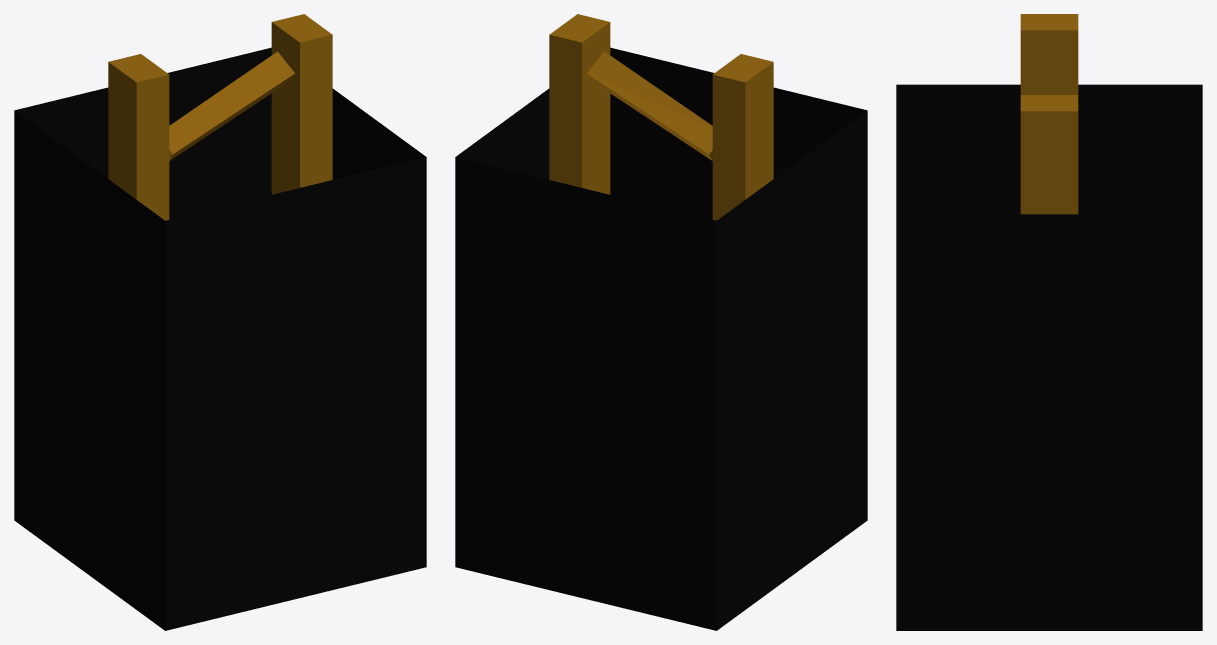
The model's file is obj_ladder_22_0.obj.
3 renders of one model, left to right at view 1: azimuth 30°, elevation 25°; view 2: azimuth 150°, elevation 25°; view 3: azimuth 270°, elevation 25°, orthographic.
Bounding box in the file's own units: 1 × 1.81 × 1.
